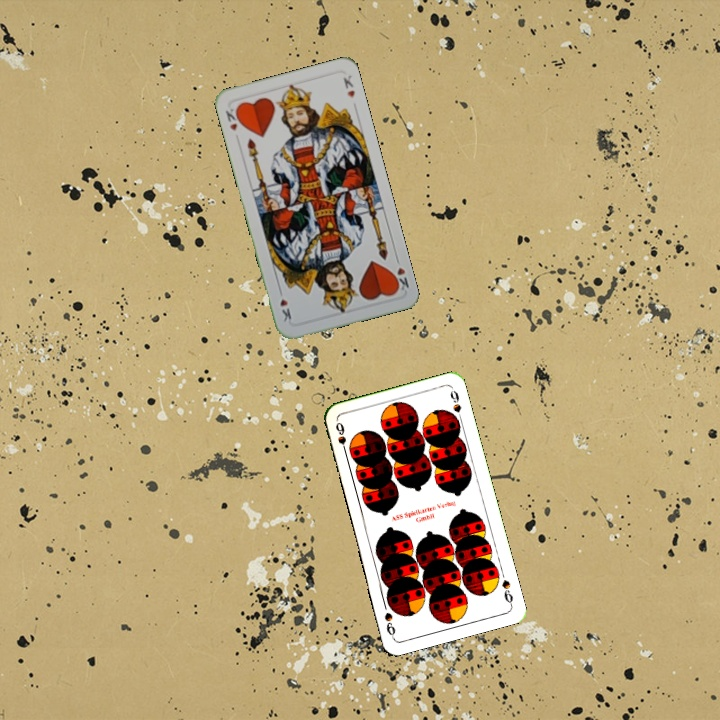HK: (388, 253, 412, 295), (222, 104, 244, 134)
S9: (331, 418, 350, 458), (498, 576, 515, 608)
